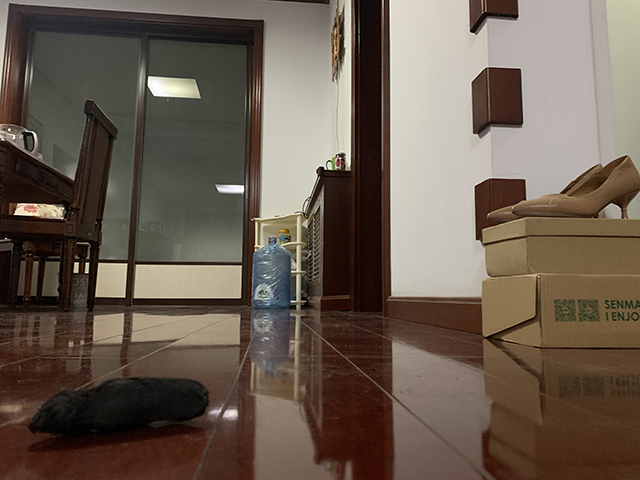cabinet: (303, 165, 354, 314)
feces: (22, 374, 212, 440)
stool: (1, 96, 119, 314)
trashcan: (70, 272, 90, 310)
